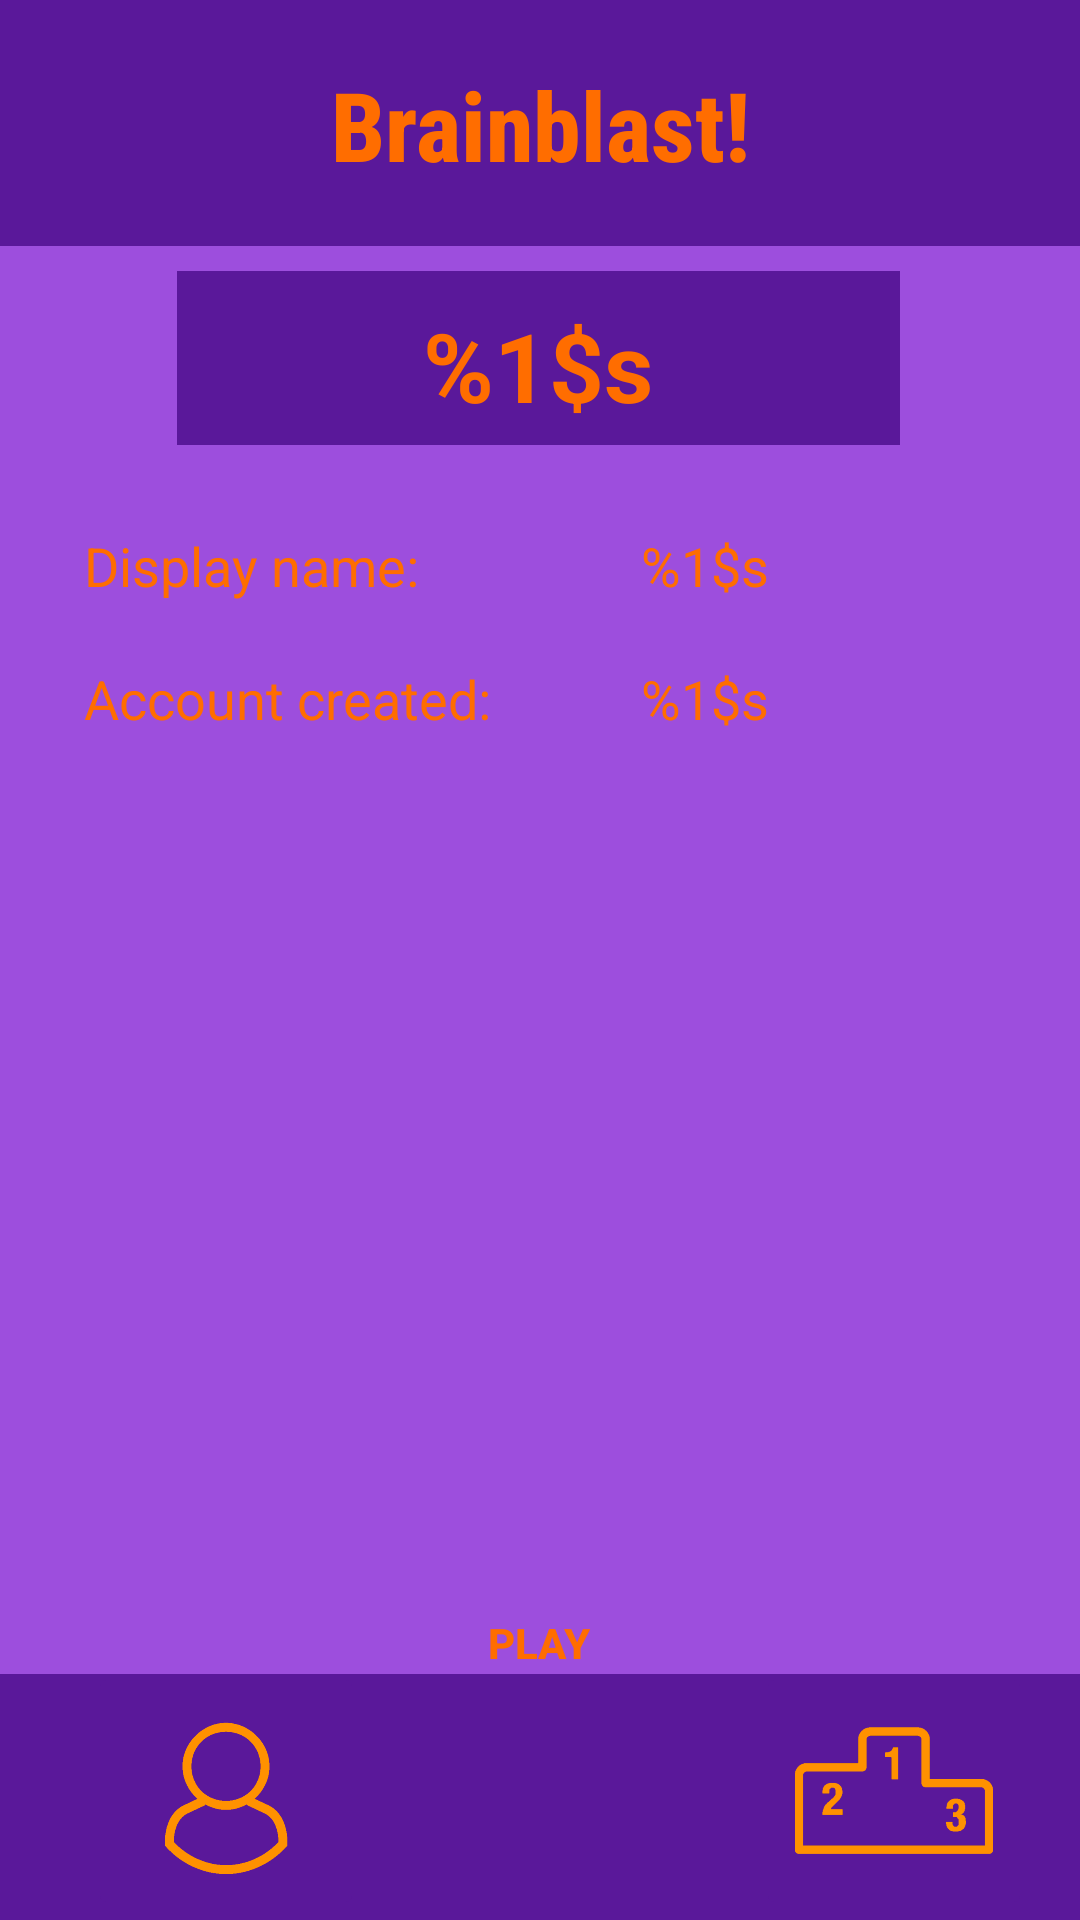

Where to tap for icons on this 1080x1920 app screen, as (x,y):
Leaderboard redirect: (894,1790)
